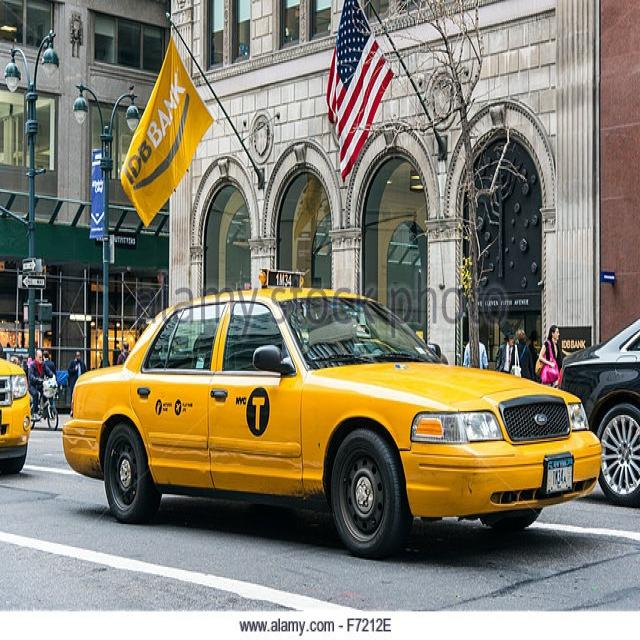body: (310, 306, 384, 359), (26, 347, 57, 422), (538, 324, 571, 389), (67, 348, 88, 418), (509, 328, 536, 382), (459, 331, 489, 372), (494, 334, 517, 374), (41, 348, 56, 375), (116, 341, 131, 366), (6, 349, 23, 366)
